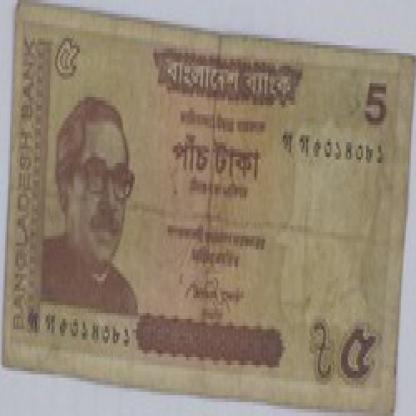Five Taka: (170, 121, 268, 201), (338, 316, 379, 395), (46, 24, 82, 83), (363, 73, 389, 135)
